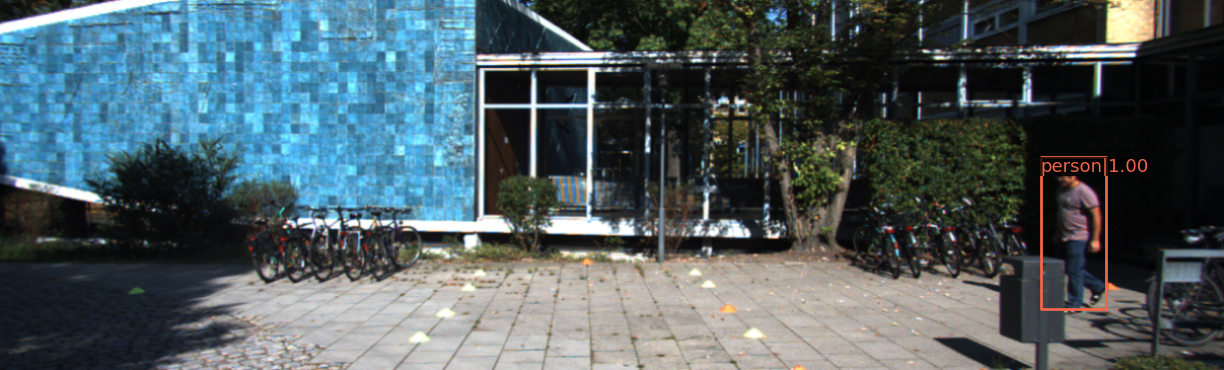person: (1039, 156, 1114, 315)
